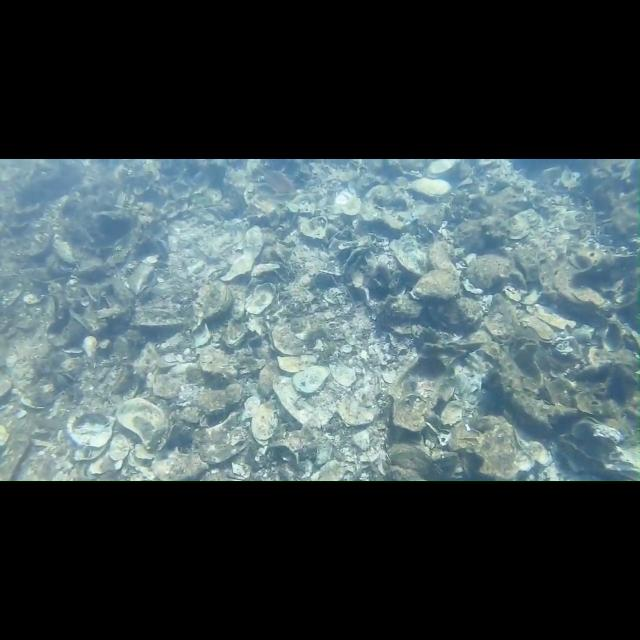Oyster-Closed: (539, 251, 617, 313), (273, 375, 335, 427), (116, 396, 166, 449), (223, 226, 265, 282), (150, 446, 210, 482), (430, 296, 484, 330), (466, 254, 514, 290), (389, 232, 428, 276), (412, 270, 461, 302), (270, 321, 308, 357), (338, 396, 376, 428), (292, 365, 330, 393), (204, 281, 232, 319), (196, 388, 234, 414), (252, 398, 276, 439), (414, 443, 444, 475), (428, 243, 458, 274), (388, 442, 422, 468), (408, 178, 452, 198), (258, 359, 280, 397), (152, 373, 182, 399), (430, 450, 460, 472)
Oyster-Open: (521, 314, 555, 346)
